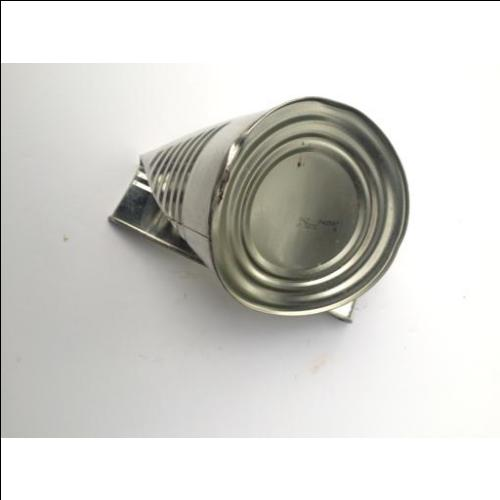metal: (111, 98, 409, 320)
